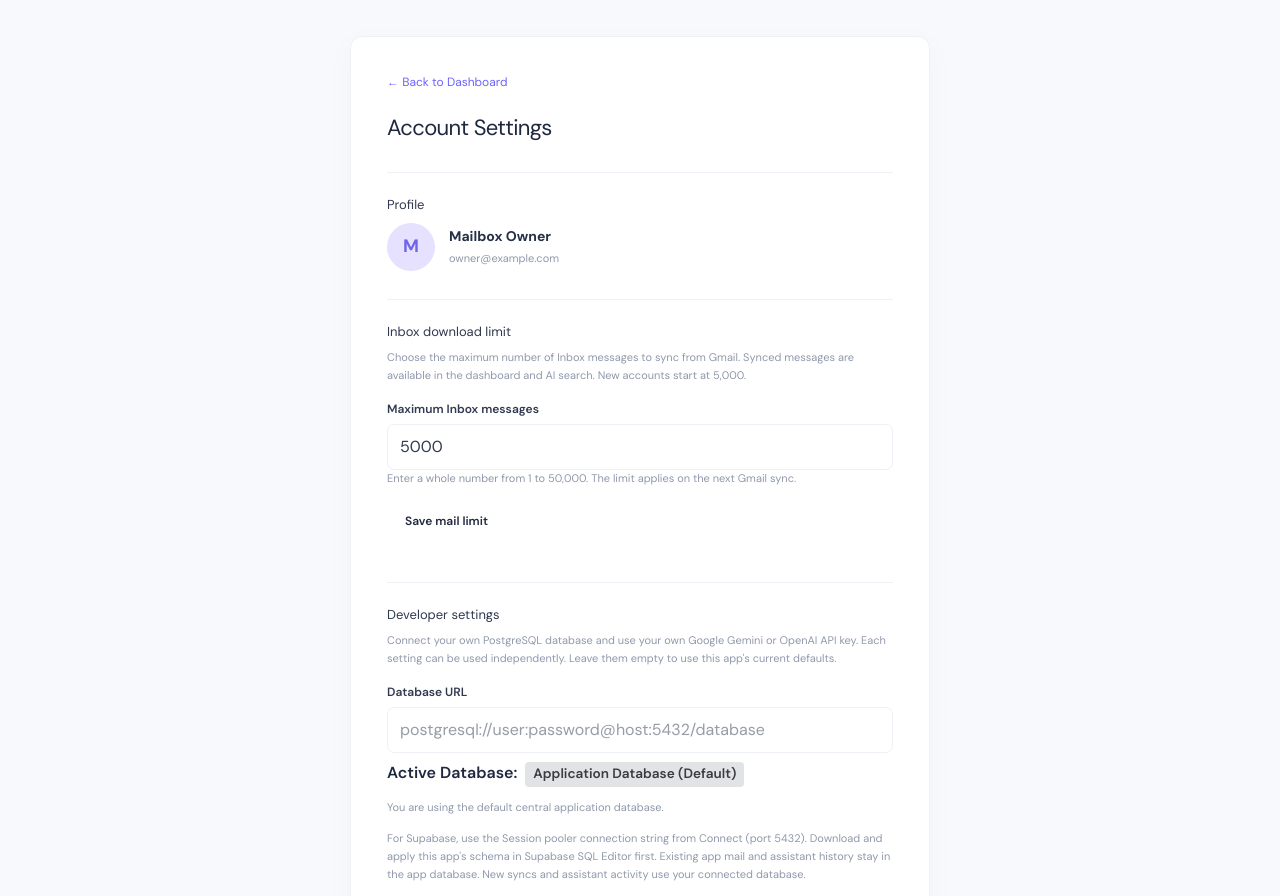
Scenario: opens the pop-up as soon as Connect Database is clicked
The image size is (1280, 896).
Type "postgresql://owner:secret@db.example.com/mail" into the password field labelled "Database URL".
click(640, 730); type("postgresql://owner:secret@db.example.com/mail")  # box [387,708,893,754]
(page scrolled)
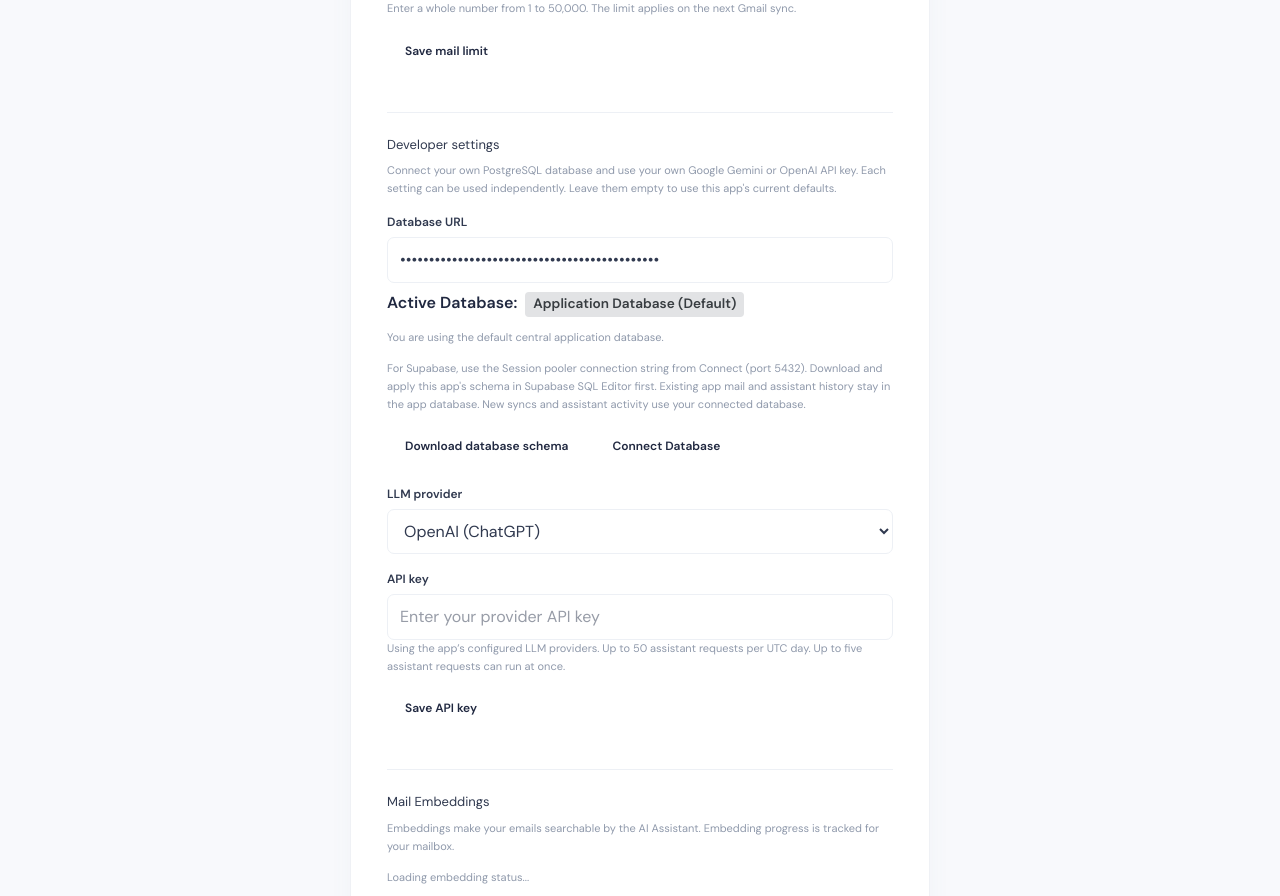
Click the button "Connect Database".
click(666, 446)  # box [594,427,738,465]
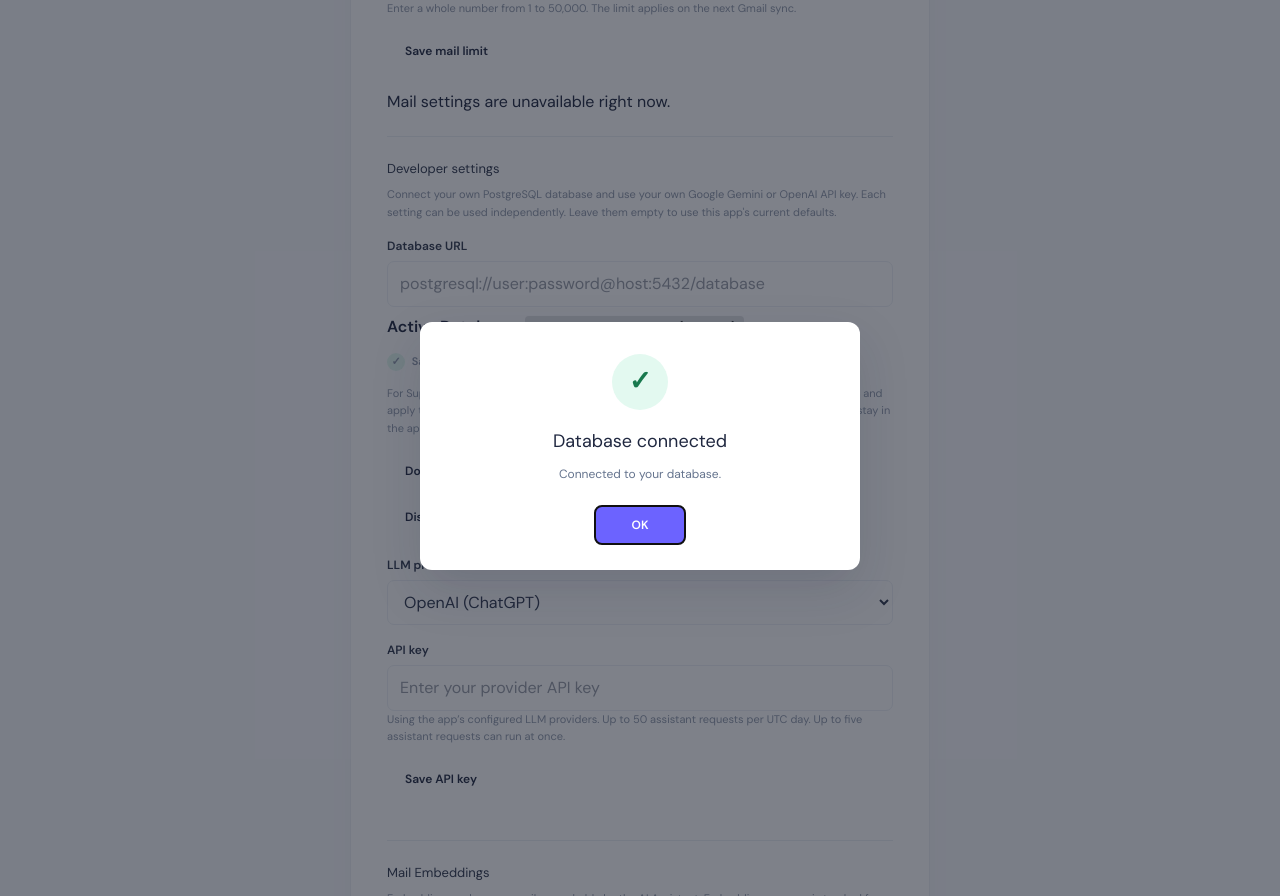
Expected: the text "Checking the database connection and app schema. No existing mail is transferred." is shown, [559,466,721,482]
Expected: the button "Connect Database" is disabled, [594,452,738,490]
Expected: the dialog "Database connected" is shown, [420,322,860,570]
